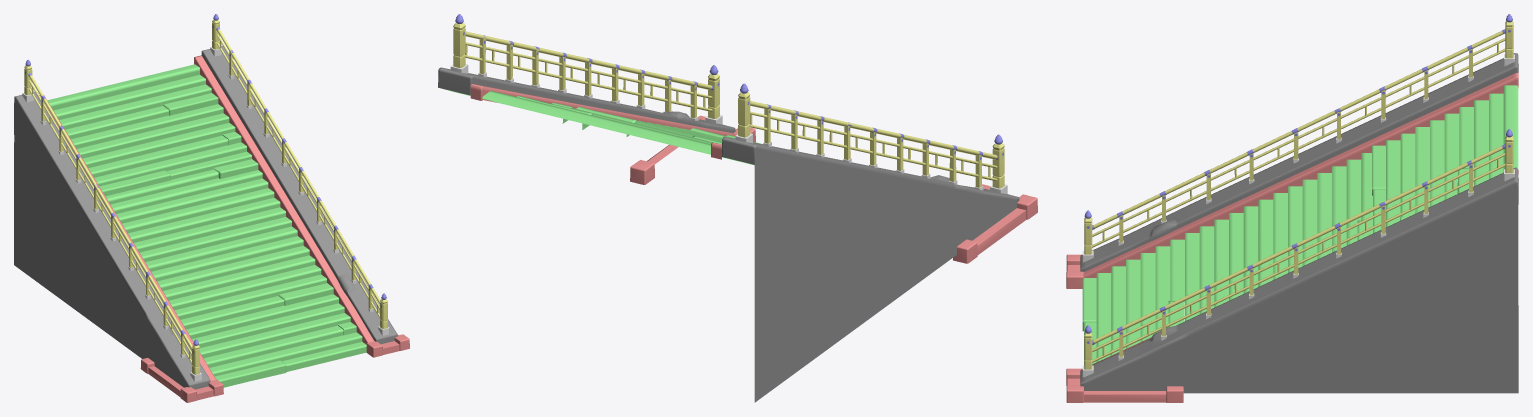
Rendered from SM_ENV_LKNVLD_Ground_StairCase_02_Lod3.gltf.
3 renders of one model, left to right at view 1: azimuth 30°, elevation 25°; view 2: azimuth 150°, elevation 25°; view 3: azimuth 270°, elevation 25°, orthographic. The views are drawn at different scales.
Visible parts, largest first — view 1: SM_ENV_LKNVLD_Ground_StairCase_02_Lod3; view 2: SM_ENV_LKNVLD_Ground_StairCase_02_Lod3; view 3: SM_ENV_LKNVLD_Ground_StairCase_02_Lod3.
Boxes of the visible parts, <box> form: SM_ENV_LKNVLD_Ground_StairCase_02_Lod3: <box>14,14,409,402</box>; SM_ENV_LKNVLD_Ground_StairCase_02_Lod3: <box>438,14,1037,402</box>; SM_ENV_LKNVLD_Ground_StairCase_02_Lod3: <box>1066,14,1518,402</box>.
Bounding box in the file's own units: 8.79 × 7.9 × 12.3.
